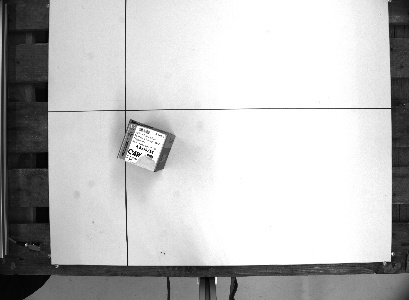b4: (114, 116, 179, 172)
